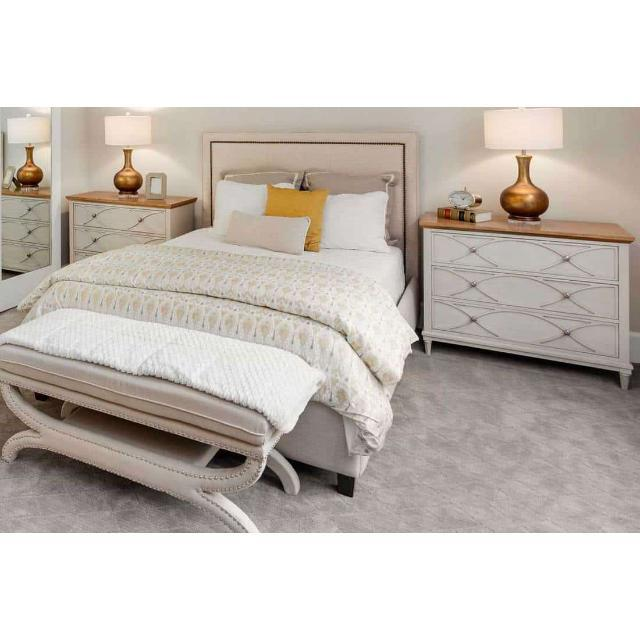bed: (0, 133, 418, 497)
dresser: (422, 206, 634, 393)
lamp: (104, 115, 148, 197)
